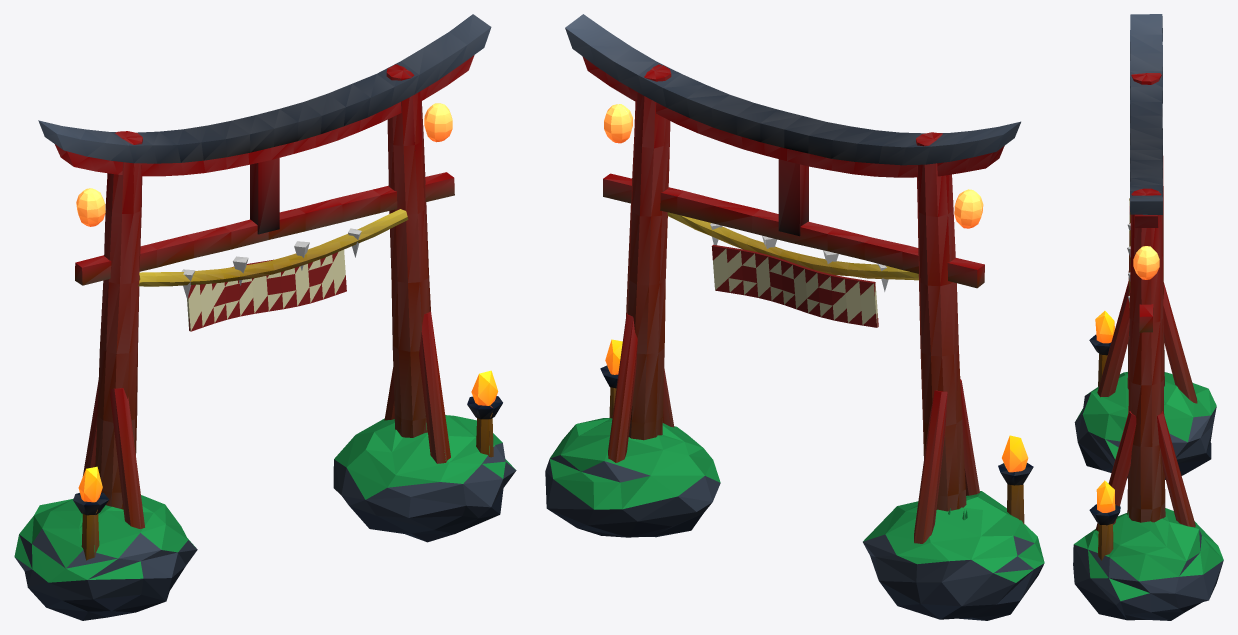
File: riverrush_torii_gate_kinect_2010360 (2).glb
The picture shows the model from 3 angles, left to right: view 1: azimuth 30°, elevation 25°; view 2: azimuth 150°, elevation 25°; view 3: azimuth 270°, elevation 25°; orthographic projection. The views are drawn at different scales.
Visible parts, largest first — view 1: Gerbang_Checkpoint_Kayu_Jepang; view 2: Gerbang_Checkpoint_Kayu_Jepang; view 3: Gerbang_Checkpoint_Kayu_Jepang.
Boxes of the visible parts, left/top/right/bottom form: Gerbang_Checkpoint_Kayu_Jepang: left=14, top=14, right=516, bottom=620; Gerbang_Checkpoint_Kayu_Jepang: left=545, top=14, right=1044, bottom=620; Gerbang_Checkpoint_Kayu_Jepang: left=1073, top=14, right=1223, bottom=620.
Bounding box in the file's own units: 10.06 × 10.09 × 3.14.
